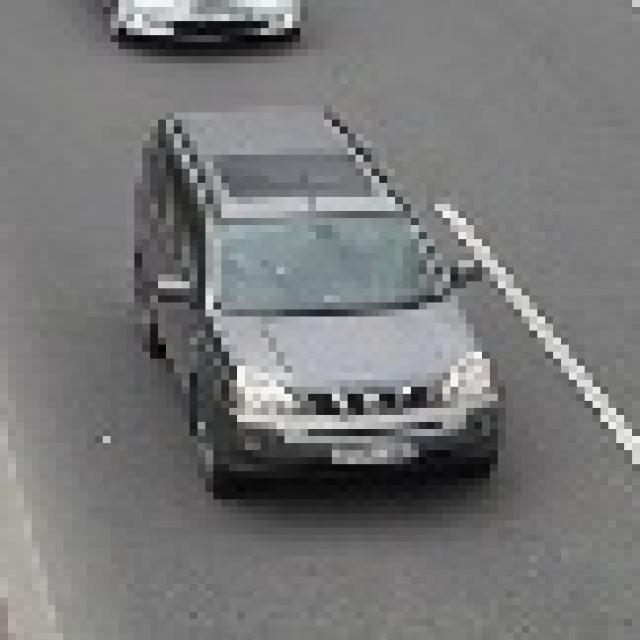SUV: (138, 113, 491, 481)
